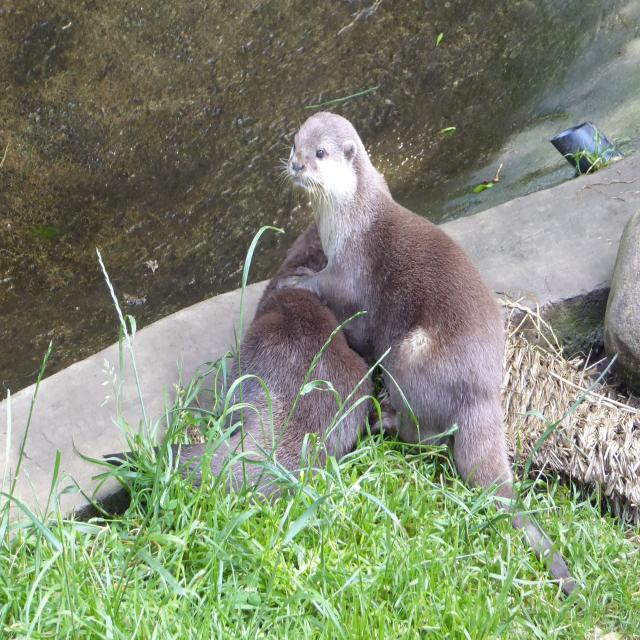otter: (289, 115, 515, 491), (226, 232, 370, 493)
